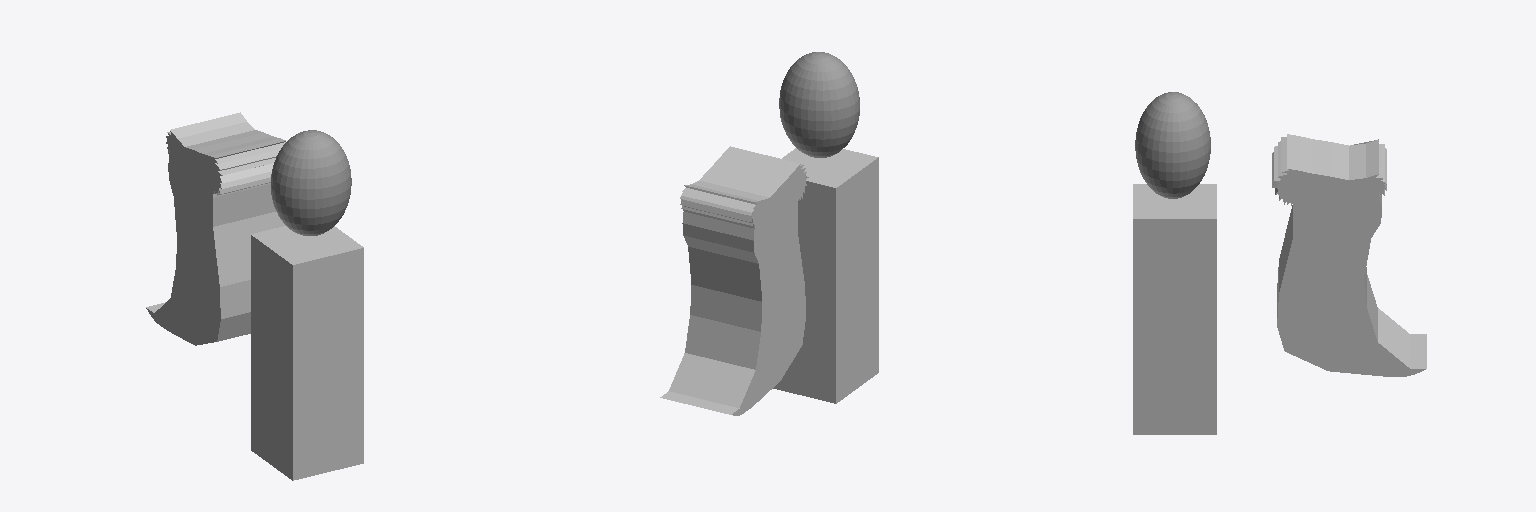
File: keyleeth.obj
3 views of the same model, side by side, from view 1: azimuth 30°, elevation 25°; view 2: azimuth 150°, elevation 25°; view 3: azimuth 270°, elevation 25° (orthographic).
Visible parts, largest first — view 1: Cube.001, Cube_Cube.002, Sphere_Sphere.001; view 2: Cube_Cube.002, Cube.001, Sphere_Sphere.001; view 3: Cube_Cube.002, Cube.001, Sphere_Sphere.001.
Part boxes in pixels (x1,y1,x2,y2): Cube.001: (251,226,363,480); Cube_Cube.002: (146,112,285,345); Sphere_Sphere.001: (271,130,351,235); Cube_Cube.002: (660,146,808,415); Cube.001: (773,148,878,403); Sphere_Sphere.001: (779,52,859,157); Cube_Cube.002: (1272,134,1426,376); Cube.001: (1133,184,1216,434); Sphere_Sphere.001: (1135,92,1210,198).
Bounding box in the file's own units: 0.4688 × 1.92 × 1.58.